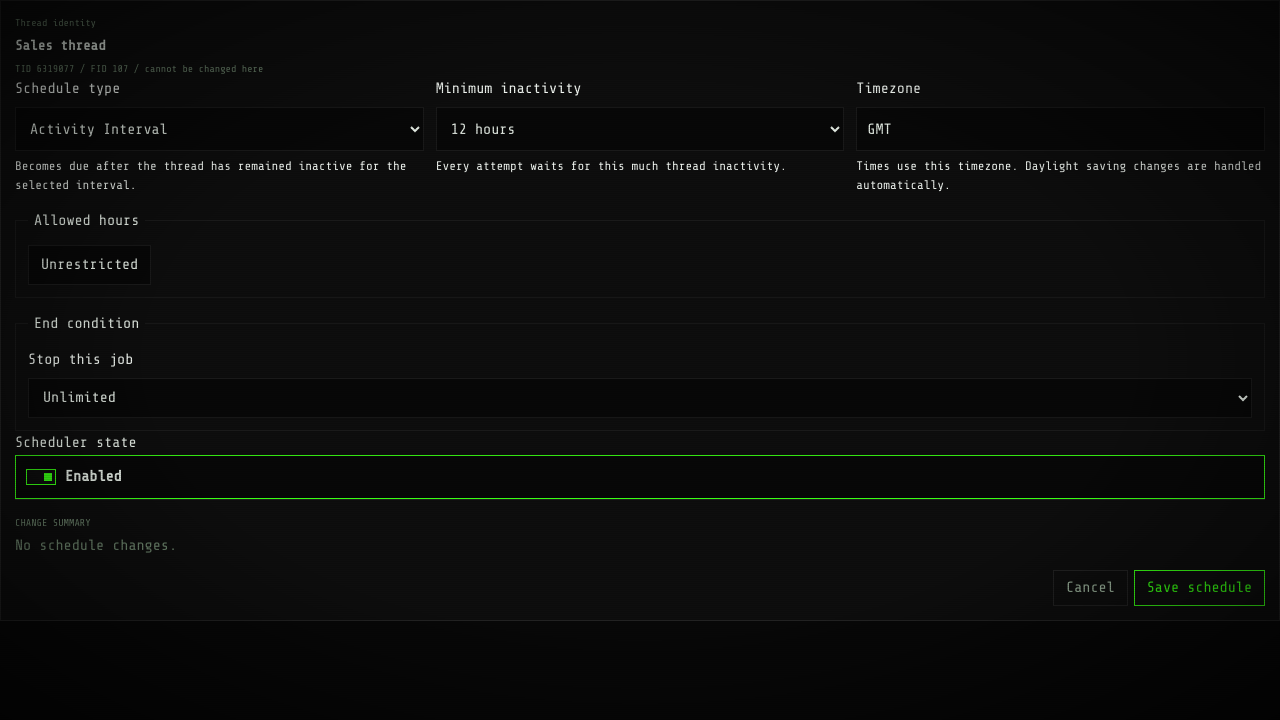
Scenario: shared bump performance components › uses a compact accessible switch instead of a native checkbox
This screenshot has width=1280, height=720.
Click the switch named "Scheduler enabled" at (93, 476), box [15,455,1265,499]
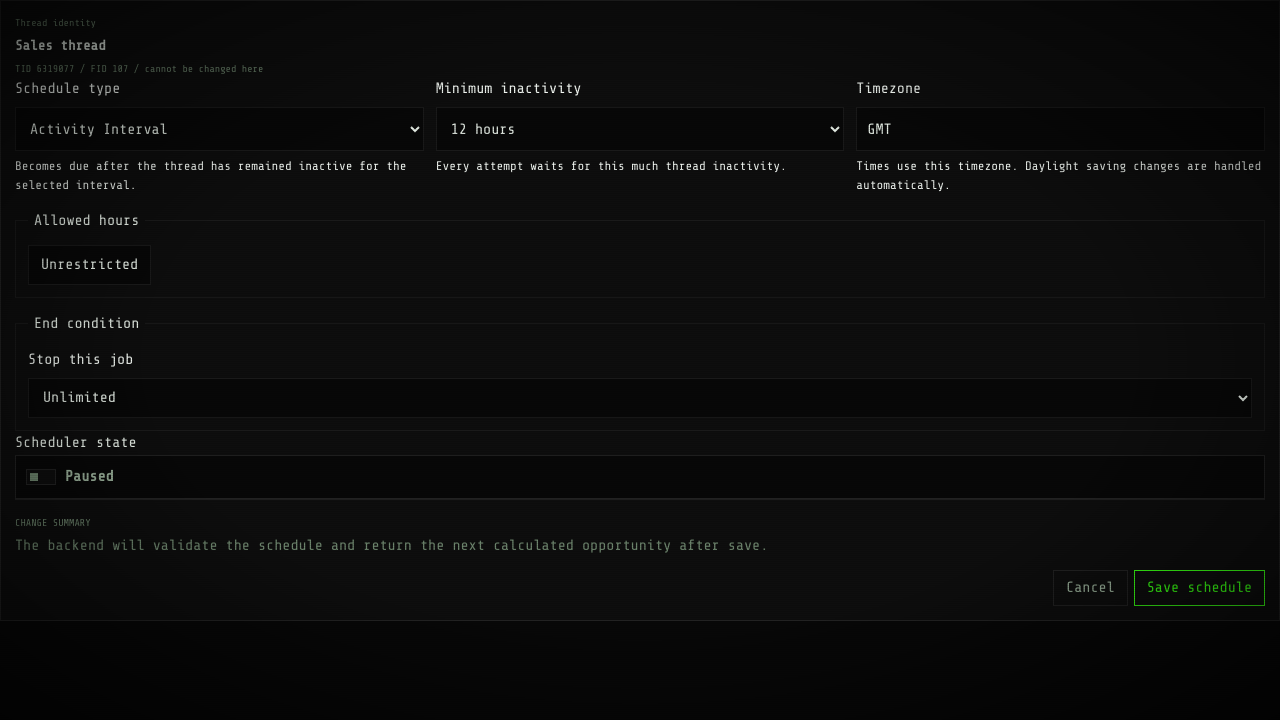
Expected: the switch named "Scheduler enabled" reads "Paused", [15,455,1265,499]
